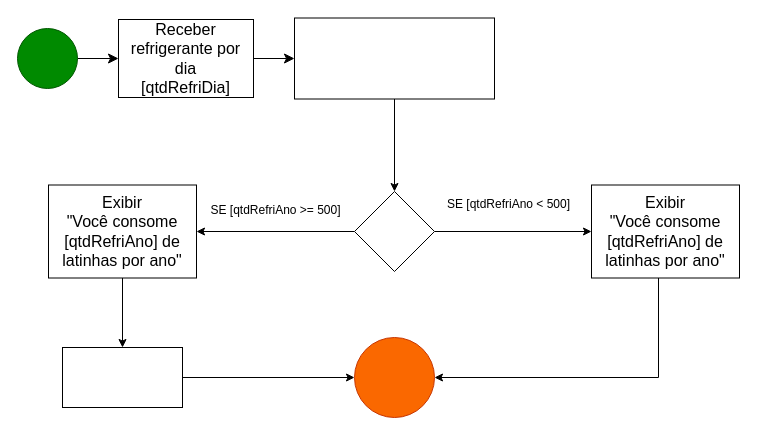
Image size: 757x435. Some labels were removed from this diagram. The shapes that lost their labels are listed below. From the top down, each one's box as (x1, y1, x2, y2) in pixels, then its label:
(294, 17, 494, 99): Calcular refrigerante por ano (qtdRefriDia * 365) [qtdRefriAno]
(62, 346, 182, 408): Exibir "Cuidado com a diabetes"
